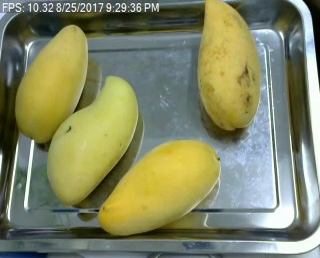Mango: (45, 76, 138, 206), (99, 139, 219, 234), (14, 24, 88, 144), (197, 1, 260, 130)
